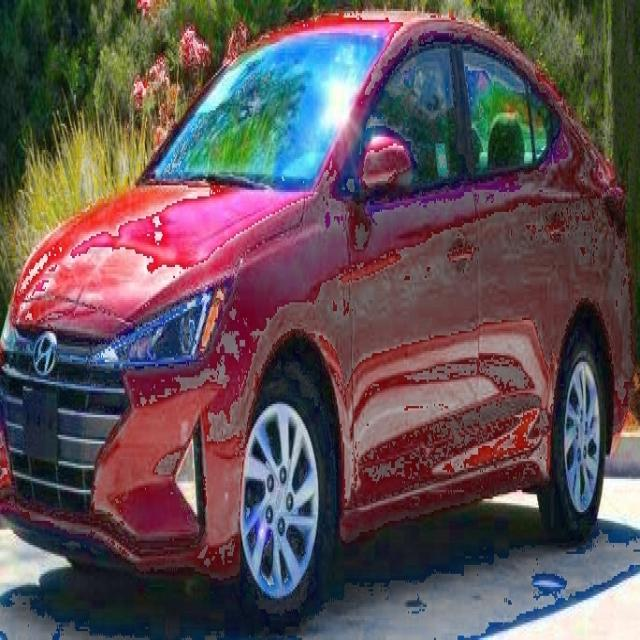maroon: (2, 12, 635, 566)
